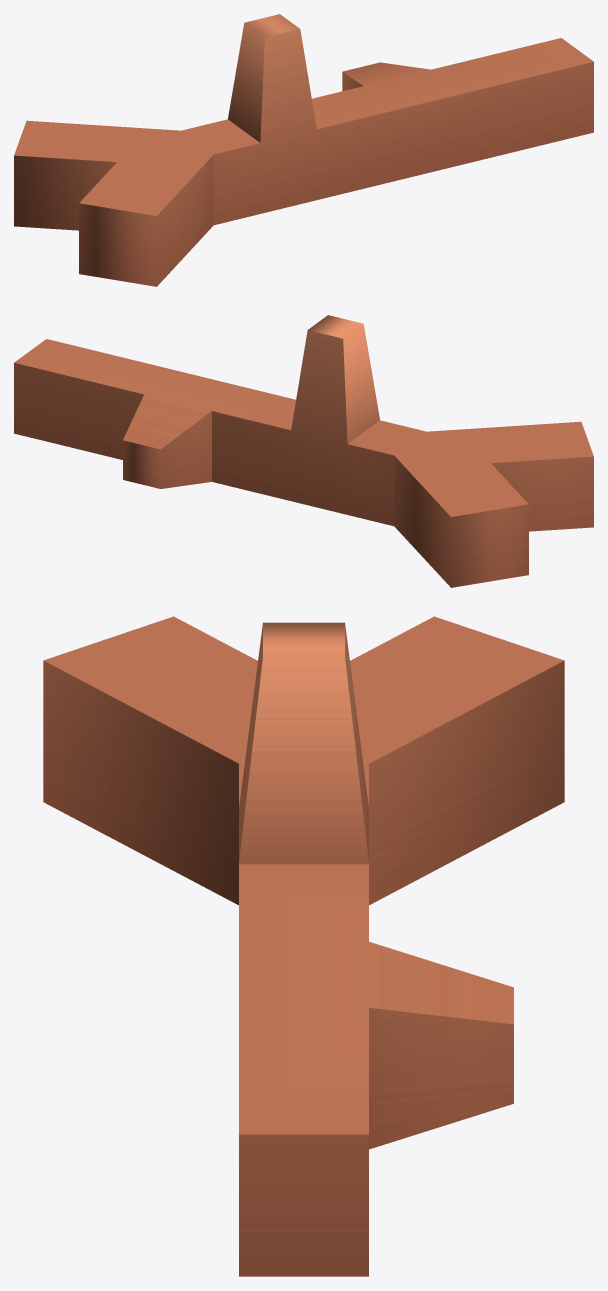
The model's file is kenney-resource-wood.glb.
3 views of the same model, one above another, from view 1: azimuth 30°, elevation 25°; view 2: azimuth 150°, elevation 25°; view 3: azimuth 270°, elevation 25° (orthographic). The views are drawn at different scales.
Visible parts, largest first — view 1: resource-wood; view 2: resource-wood; view 3: resource-wood.
Boxes of the visible parts, bbox=[...] form: resource-wood: bbox=[14, 14, 593, 286]; resource-wood: bbox=[14, 315, 593, 587]; resource-wood: bbox=[43, 616, 564, 1276].
Size of the model in its own units: 0.205 by 0.0624 by 0.0871.
Materials: 1 (1 with a texture image).
